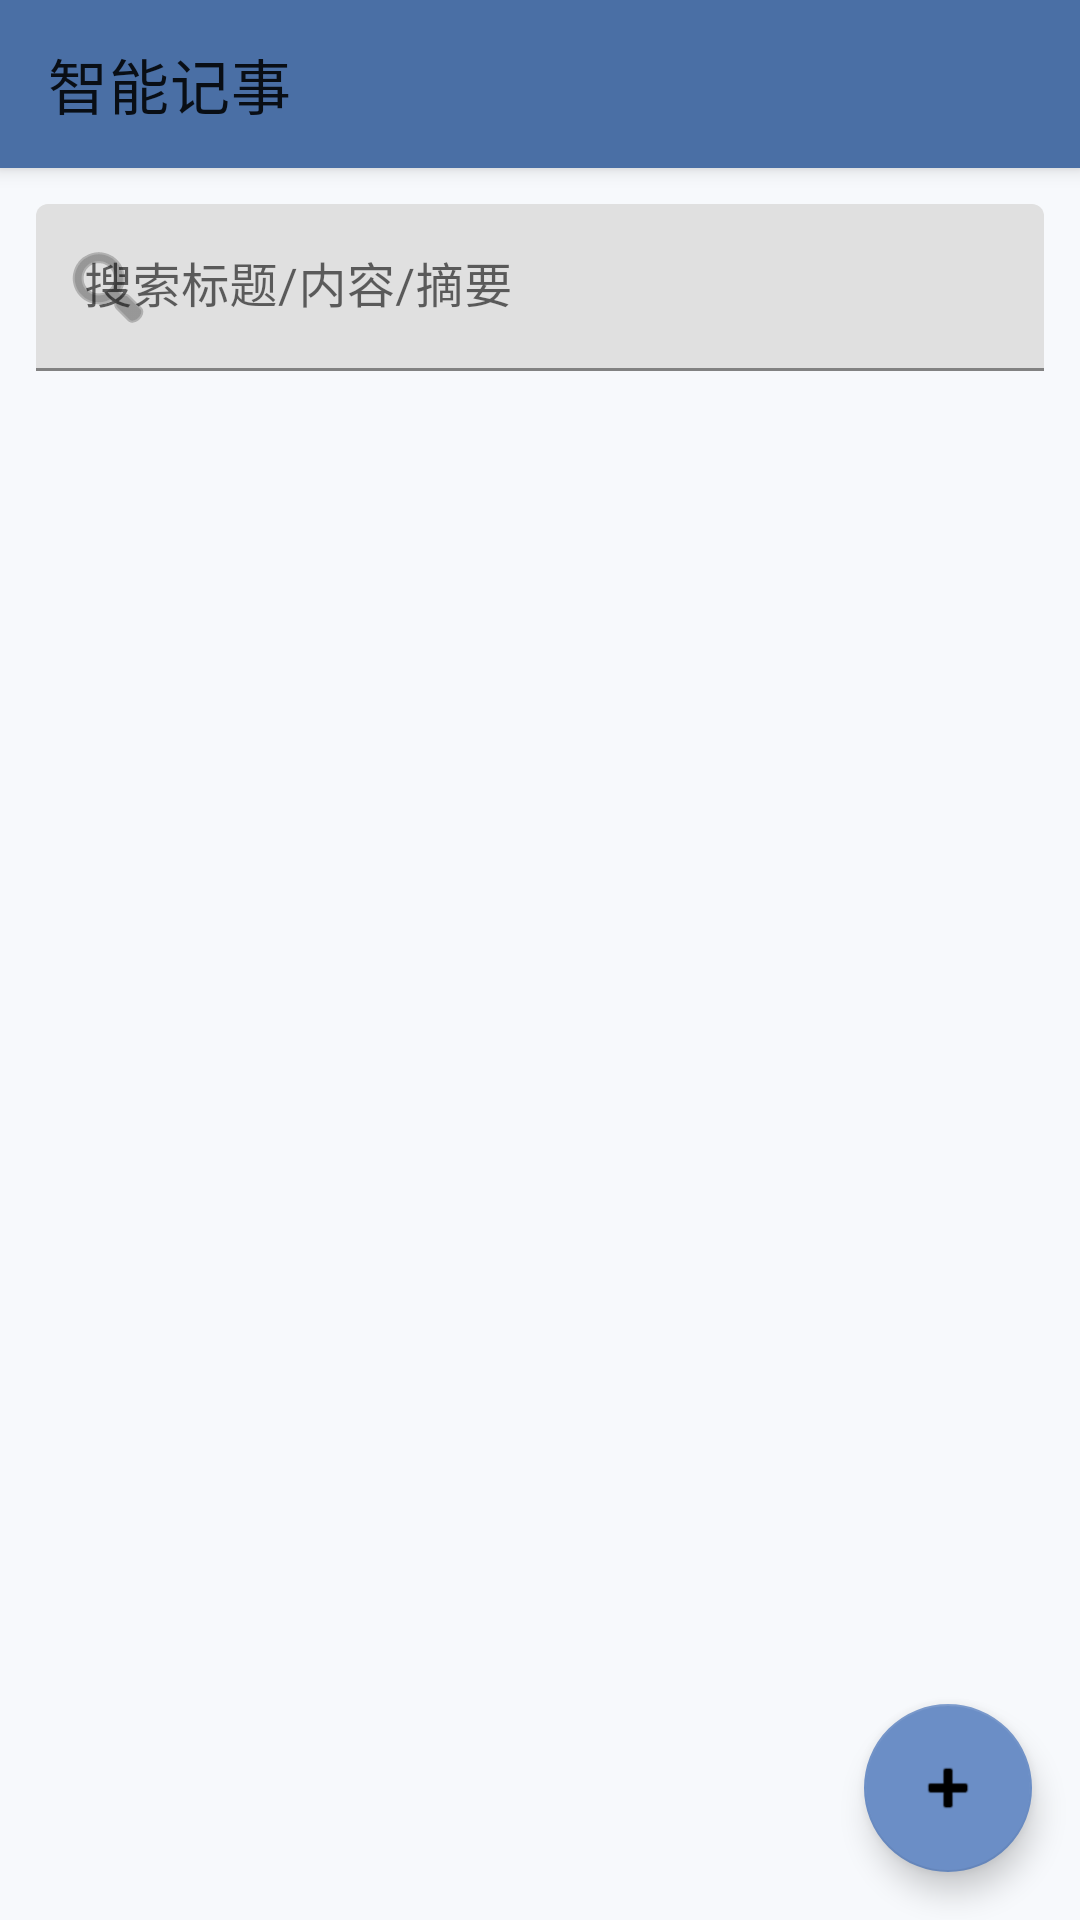

Named icons in this screenshot (1080px×1920px) and their bounding boxes, box=[x1, y1, x2, y2]:
新建: box=[864, 1704, 1032, 1872]
